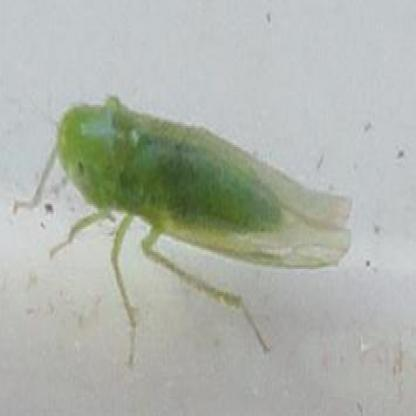green-leafhopper: (14, 98, 352, 367)
